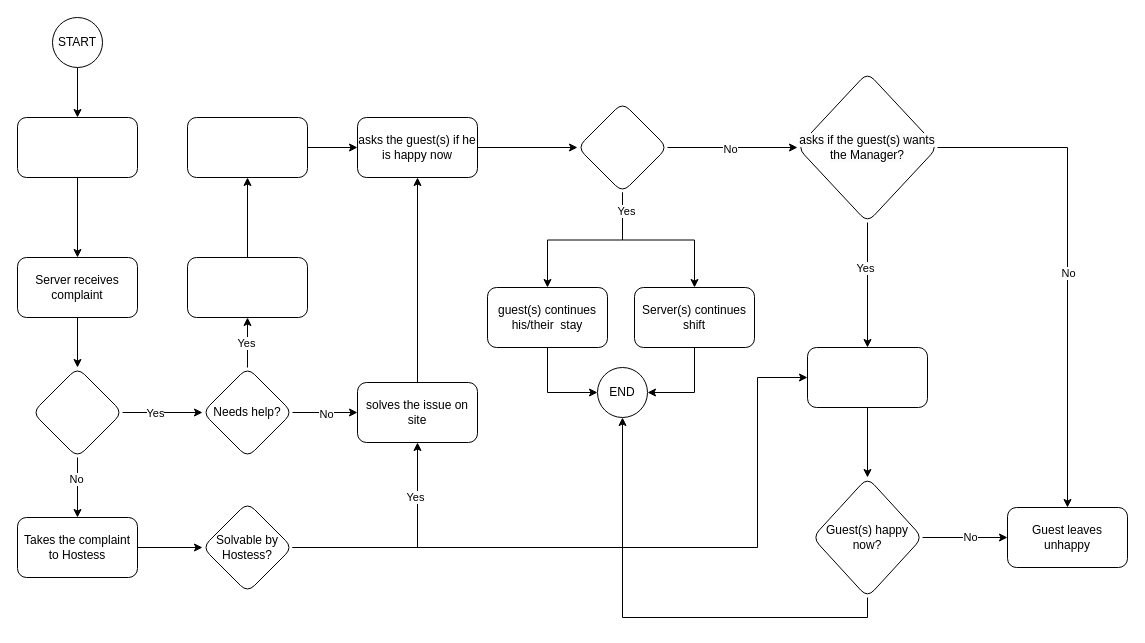
This 1145x643 diagram has some shape labels left out. The box of each missing label's shape, as (x1, y1, x2, y2) in pixels:
gets help from other Servers: (186, 256, 308, 318)
Guest(s) gives a complaint: (16, 116, 138, 178)
Guest(s) happy?: (576, 102, 668, 192)
Manager comes to solve the issue: (806, 346, 928, 408)
solvable by Server?: (32, 366, 122, 458)
solves the issue: (186, 116, 308, 178)
